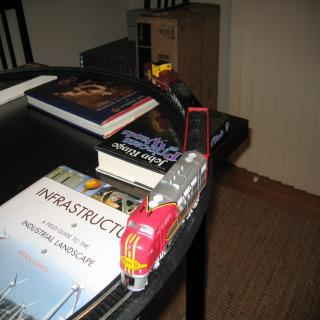book: (23, 72, 158, 139)
